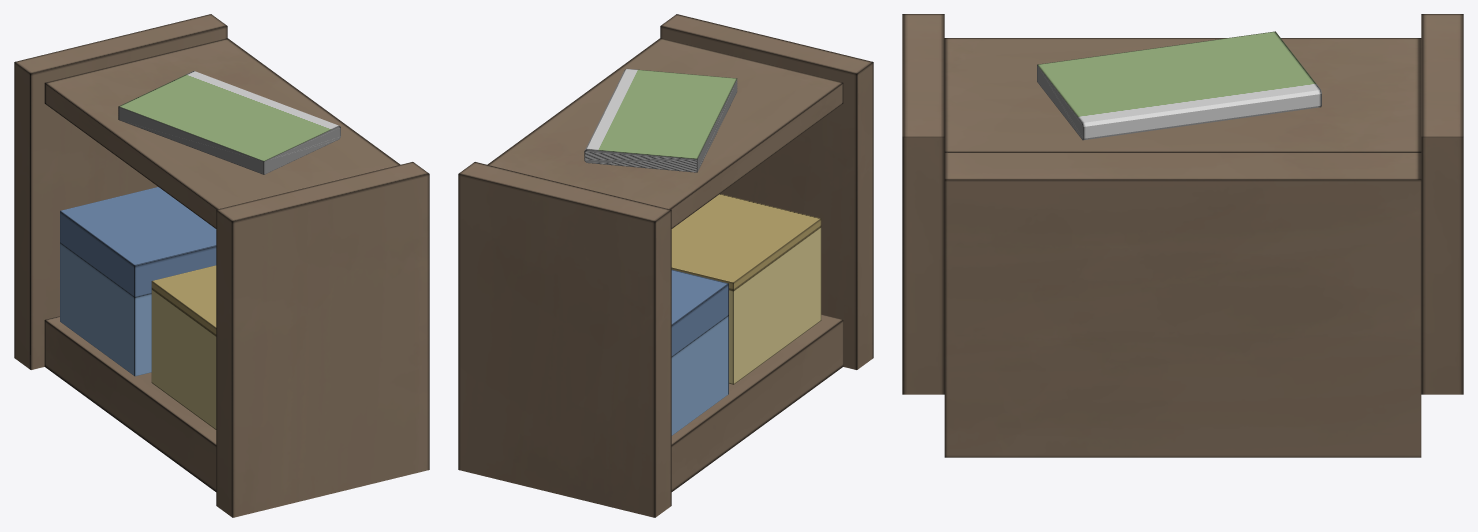
Rendered from shelf3_objects.fbx.
The picture shows the model from 3 angles, left to right: view 1: azimuth 30°, elevation 25°; view 2: azimuth 150°, elevation 25°; view 3: azimuth 270°, elevation 25°; orthographic projection. The views are drawn at different scales.
Parts seen in each view (by area): view 1: polySurface1681; view 2: polySurface1681; view 3: polySurface1681.
Part boxes in pixels (left/top/right/bottom): polySurface1681: left=14, top=14, right=429, bottom=517; polySurface1681: left=458, top=14, right=873, bottom=517; polySurface1681: left=902, top=14, right=1463, bottom=457.
Size of the model in its own units: 0.4196 by 0.6064 by 0.8066.
